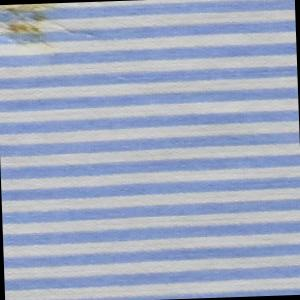Damage: (1, 2, 101, 55)
Oil Stain: (5, 4, 60, 46)
